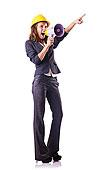helmet: (32, 15, 52, 29)
